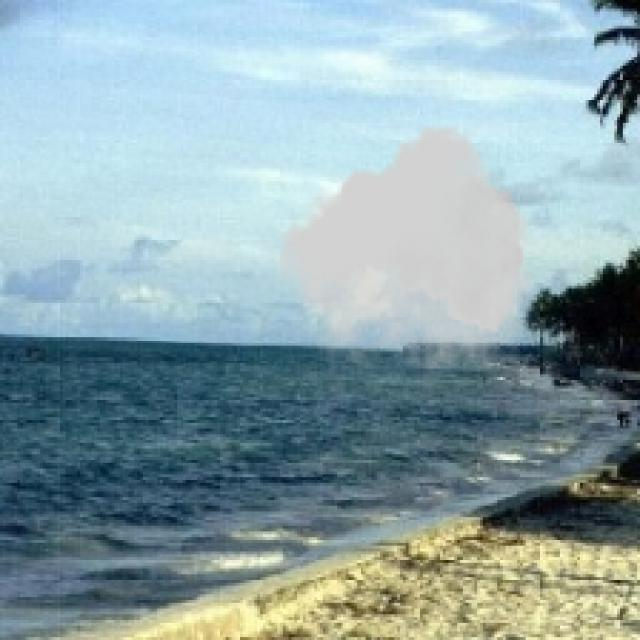Smoke: (280, 125, 534, 368)
